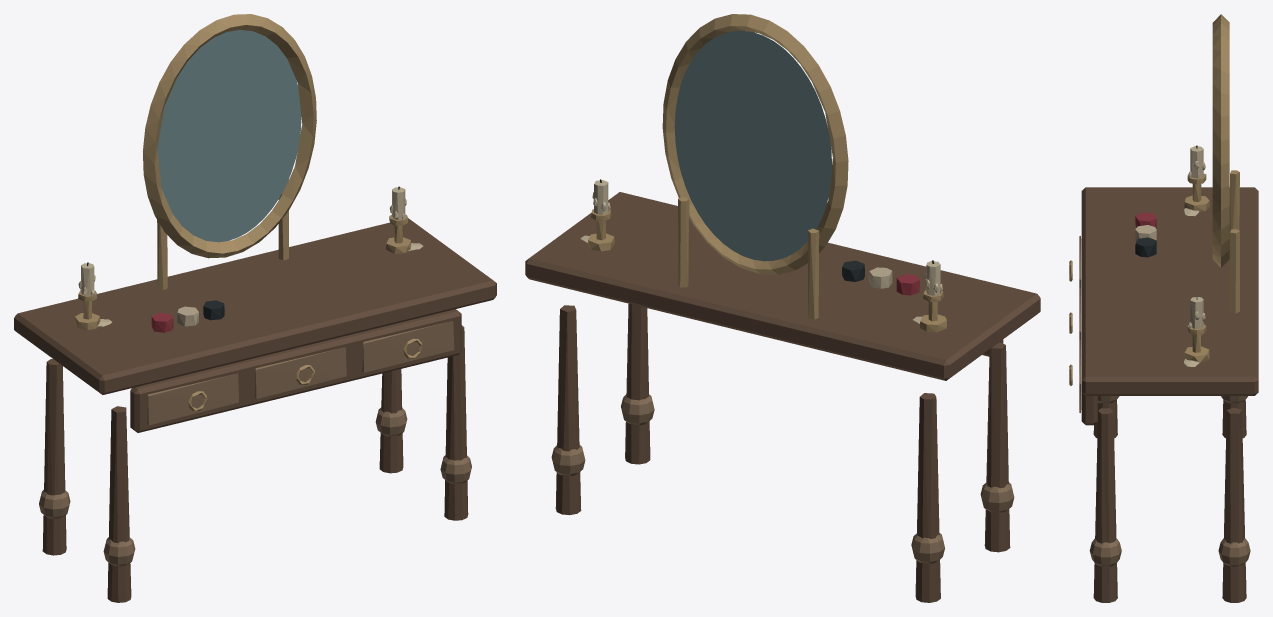
Rendered from vanity_table.glb.
The picture shows the model from 3 angles, left to right: view 1: azimuth 30°, elevation 25°; view 2: azimuth 150°, elevation 25°; view 3: azimuth 270°, elevation 25°; orthographic projection. The views are drawn at different scales.
Parts seen in each view (by area): view 1: vanity_table; view 2: vanity_table; view 3: vanity_table.
Boxes of the visible parts, bbox=[...] form: vanity_table: bbox=[14, 14, 496, 602]; vanity_table: bbox=[525, 14, 1040, 602]; vanity_table: bbox=[1069, 14, 1258, 602].
Bounding box in the file's own units: 1.7 × 2.04 × 0.706.
